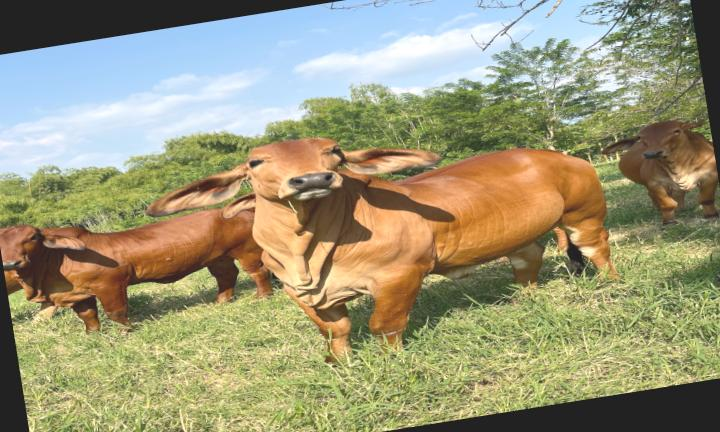Brahman: (148, 137, 617, 361), (0, 208, 271, 330)
